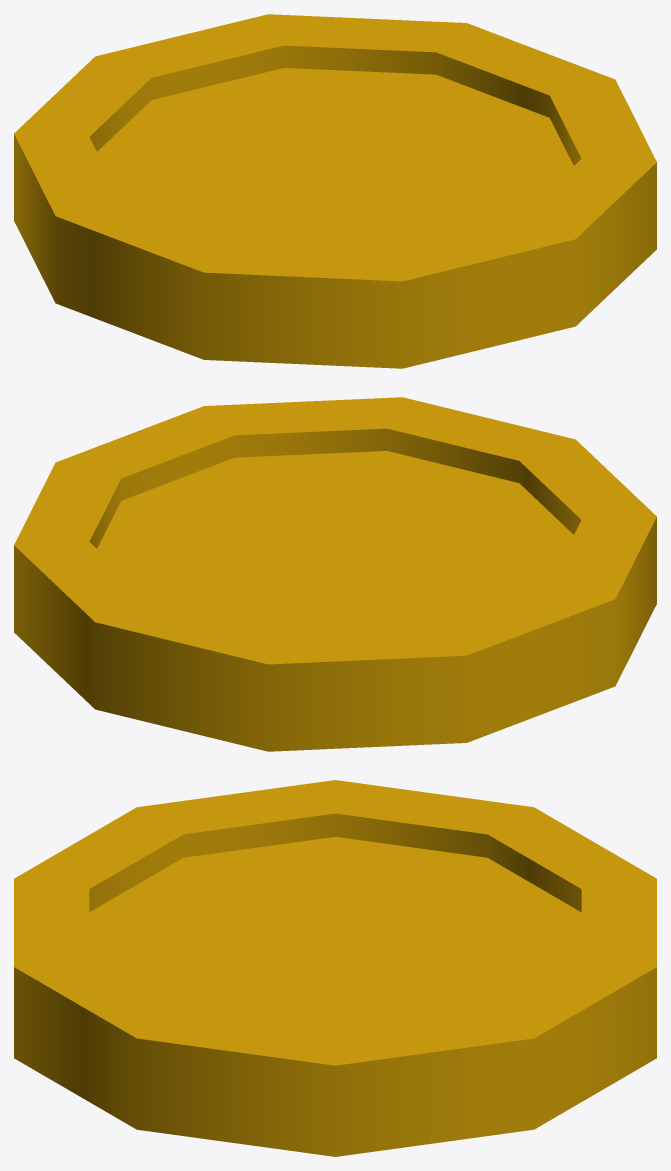
File: tr_goldCoin.fbx
3 views of the same model, one above another, from view 1: azimuth 30°, elevation 25°; view 2: azimuth 150°, elevation 25°; view 3: azimuth 270°, elevation 25° (orthographic). The views are drawn at different scales.
Parts seen in each view (by area): view 1: tr_goldCoin; view 2: tr_goldCoin; view 3: tr_goldCoin.
Part boxes in pixels (x1,y1,x2,y2): tr_goldCoin: (14, 14, 656, 368); tr_goldCoin: (14, 397, 656, 751); tr_goldCoin: (14, 780, 656, 1156).
Bounding box in the file's own units: 5.37 × 0.8 × 5.11.
